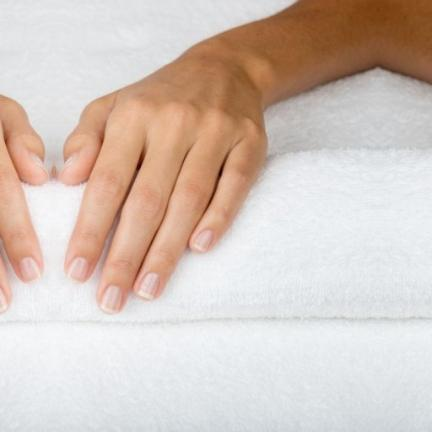Nail: (100, 285, 122, 315), (137, 272, 160, 299), (67, 256, 89, 283), (19, 256, 41, 283), (193, 229, 214, 251), (59, 154, 75, 179), (33, 154, 49, 179), (0, 287, 8, 314)
